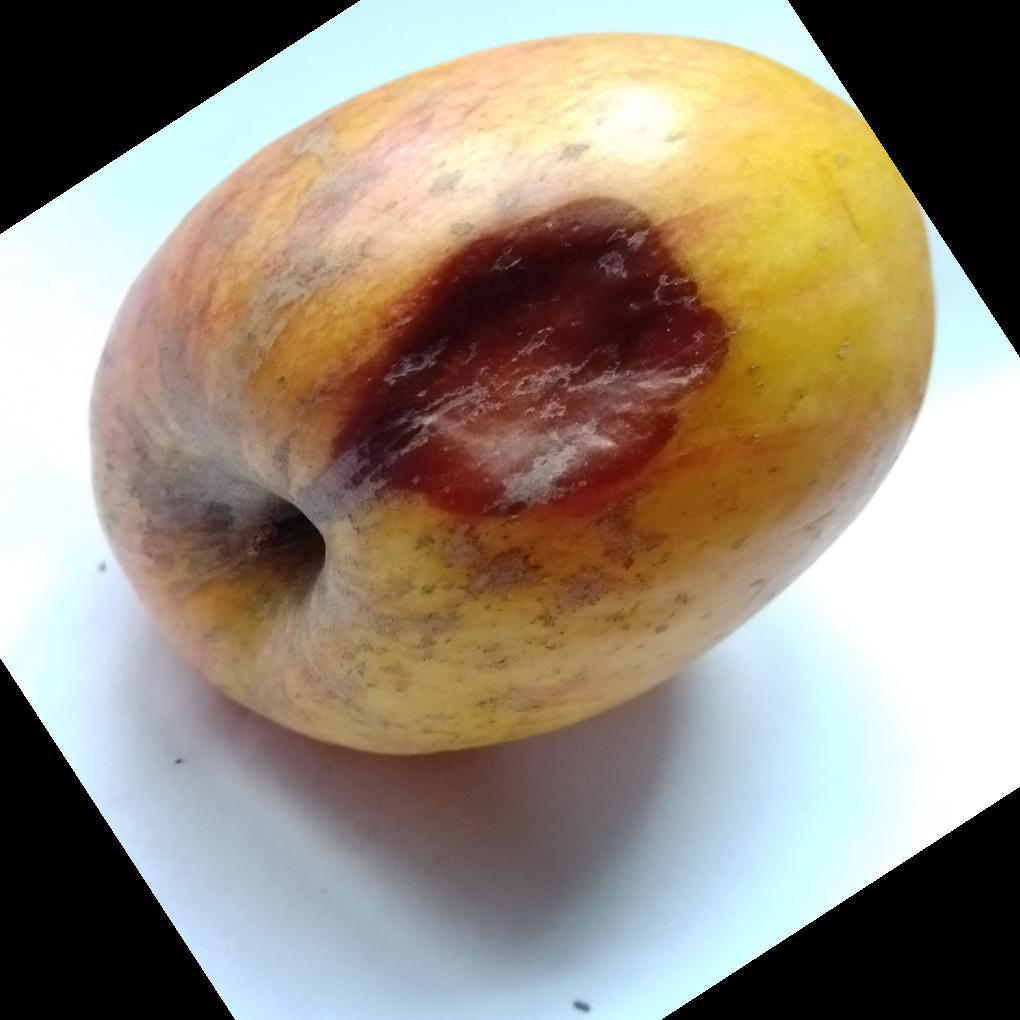FreshOrange: (85, 32, 938, 761)
